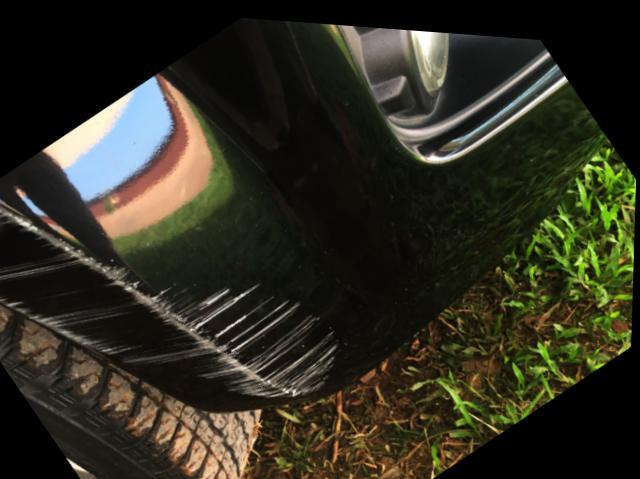scratch: (0, 201, 343, 396)
